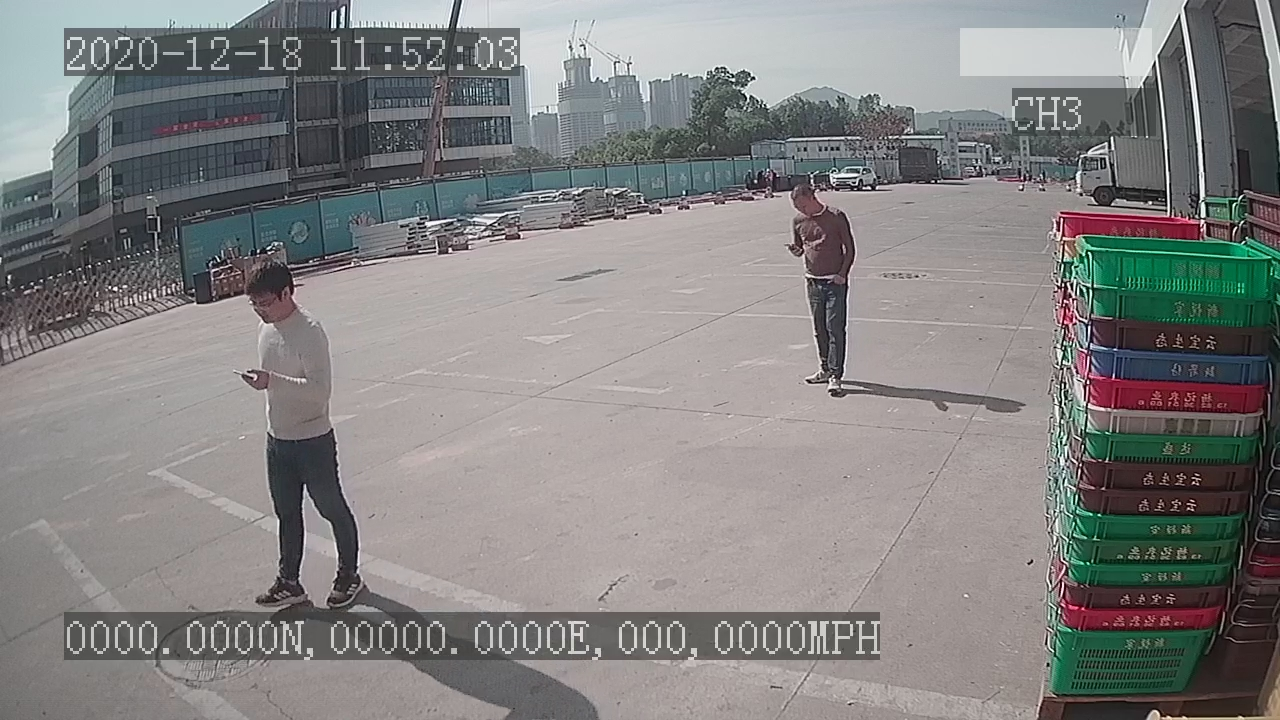person: (222, 249, 367, 610), (779, 177, 865, 404)
